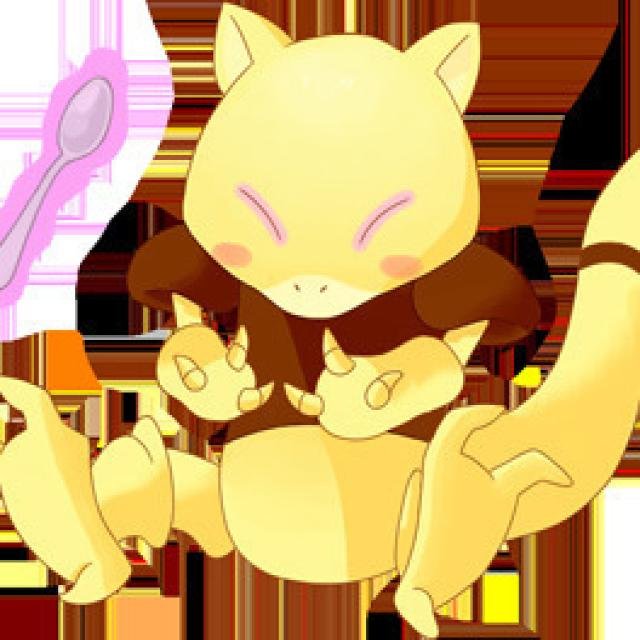Abra: (107, 18, 548, 608)
